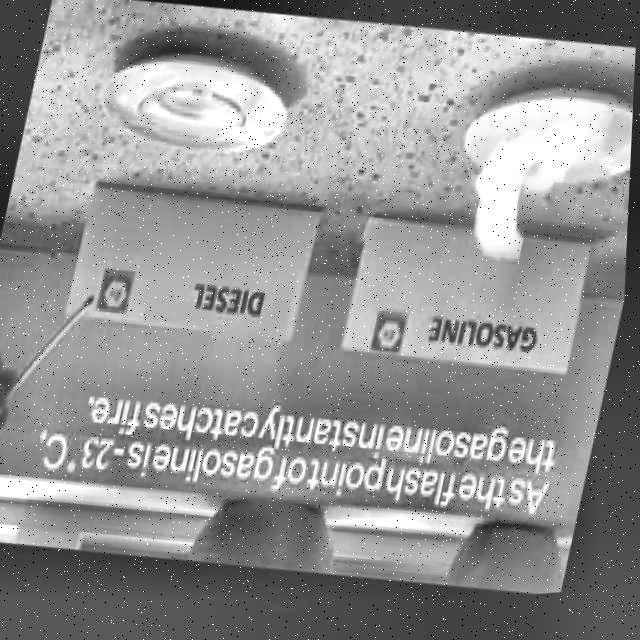Fire: (453, 111, 598, 289)
